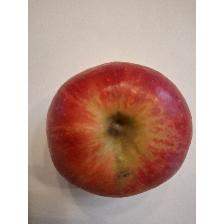Apfel: (43, 54, 194, 200)
